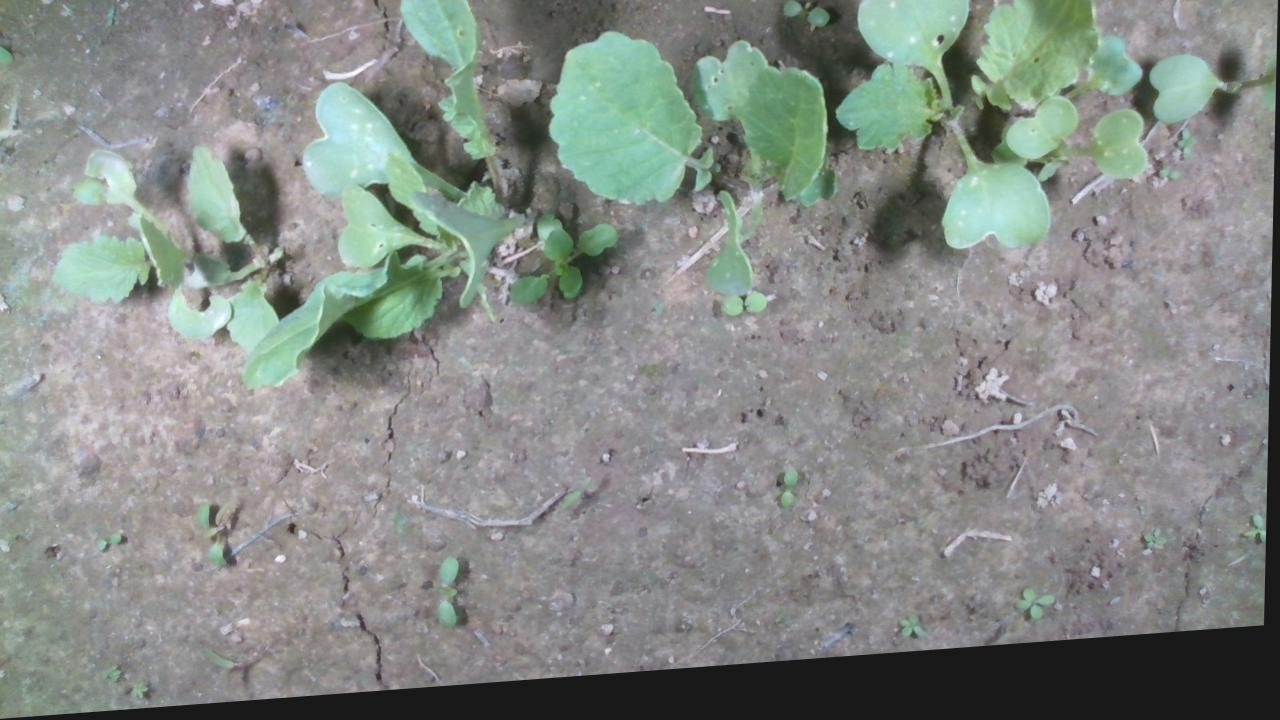weed: (195, 503, 233, 576), (437, 559, 463, 638), (779, 7, 831, 42), (1014, 601, 1058, 637), (780, 478, 802, 522), (900, 625, 930, 655), (1176, 143, 1198, 182), (95, 531, 126, 553), (1143, 542, 1168, 569), (1158, 185, 1182, 198)
